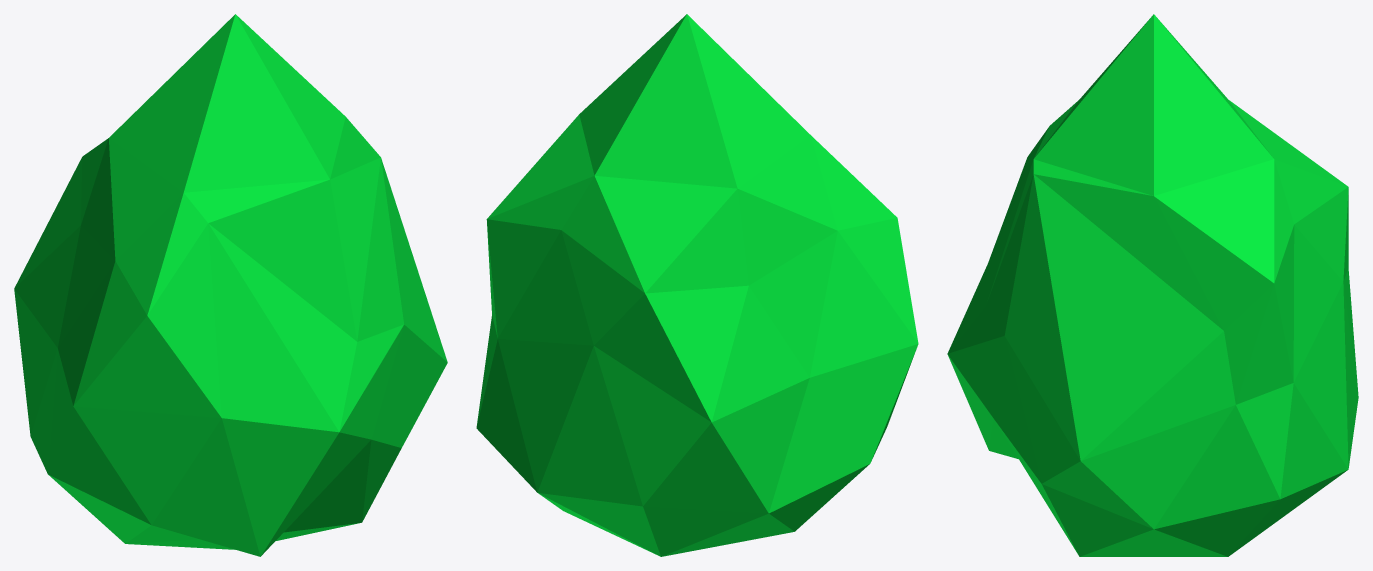
File: timestone.fbx
The picture shows the model from 3 angles, left to right: view 1: azimuth 30°, elevation 25°; view 2: azimuth 150°, elevation 25°; view 3: azimuth 270°, elevation 25°; orthographic projection. The views are drawn at different scales.
Parts seen in each view (by area): view 1: Icosphere; view 2: Icosphere; view 3: Icosphere.
Boxes of the visible parts, bbox=[...] form: Icosphere: bbox=[14, 14, 447, 556]; Icosphere: bbox=[476, 14, 918, 556]; Icosphere: bbox=[947, 14, 1358, 556].
Bounding box in the file's own units: 180 × 244 × 171.
